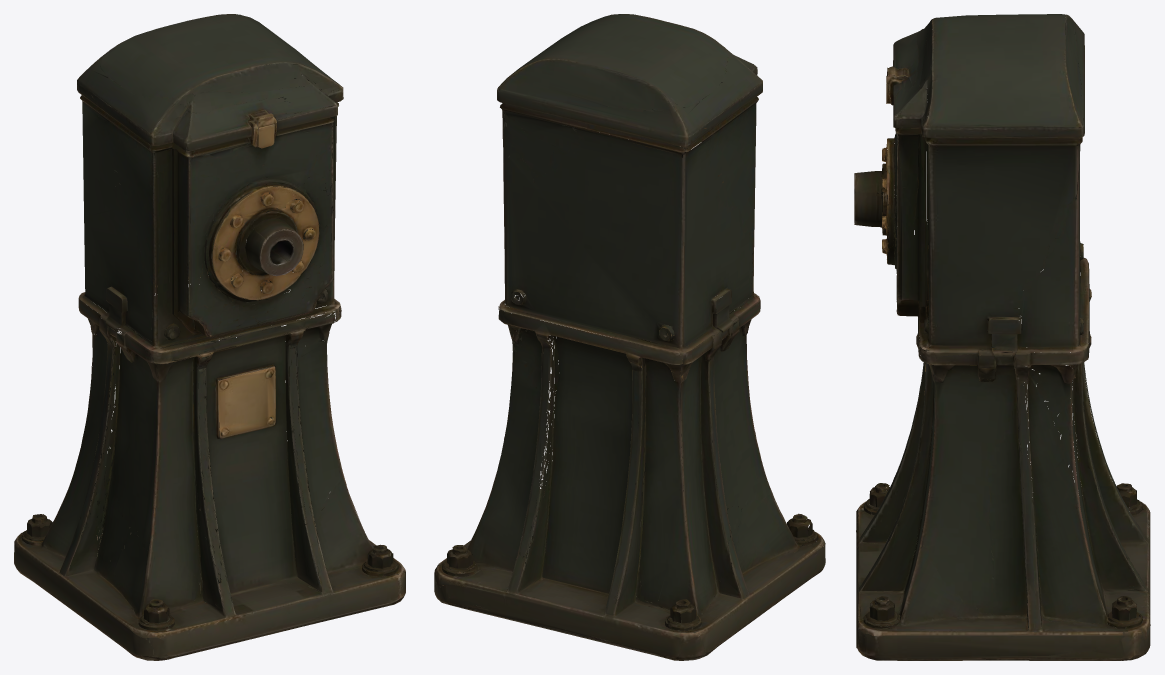
The model's file is ch05_market_shutter_pedestal_gearbox_v2.glb.
3 renders of one model, left to right at view 1: azimuth 30°, elevation 25°; view 2: azimuth 150°, elevation 25°; view 3: azimuth 270°, elevation 25°, orthographic. The views are drawn at different scales.
Visible parts, largest first — view 1: material; view 2: material; view 3: material.
Boxes of the visible parts, x1,y1,x2,y2 form: material: (14,14,405,660); material: (434,14,825,660); material: (854,14,1150,660).
Size of the model in its own units: 0.5284 by 1 by 0.482.
Materials: 1 (1 with a texture image).
